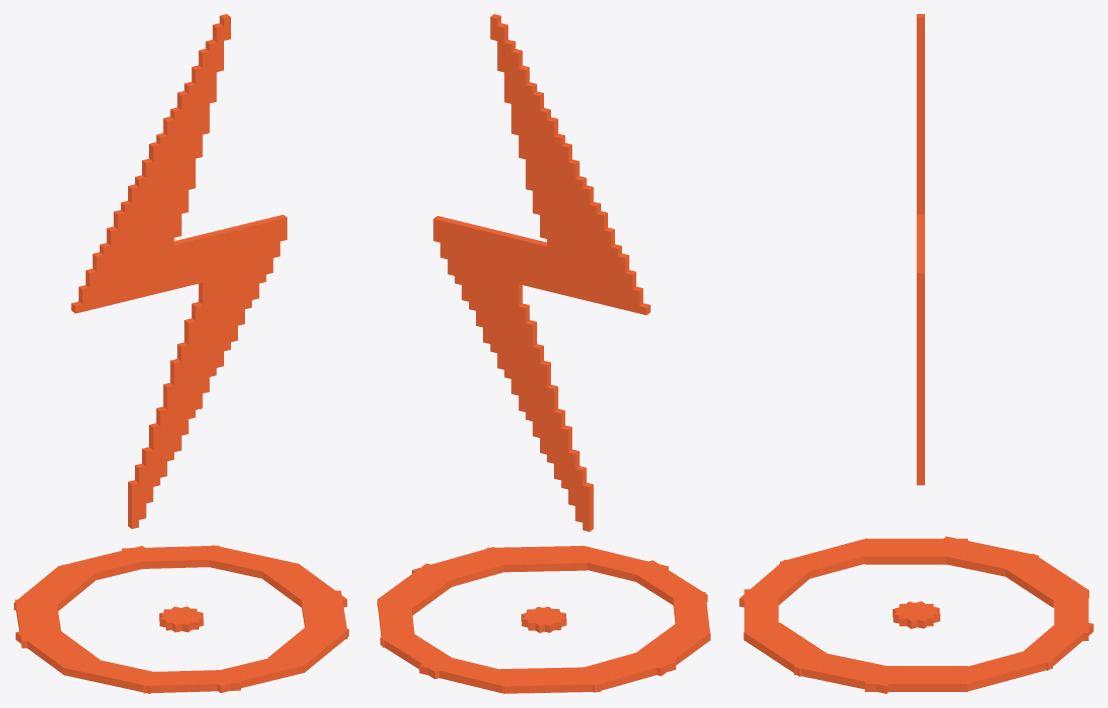
File: 模板赛道道具.gltf
3 renders of one model, left to right at view 1: azimuth 30°, elevation 25°; view 2: azimuth 150°, elevation 25°; view 3: azimuth 270°, elevation 25°, orthographic. The views are drawn at different scales.
Visible parts, largest first — view 1: Group; view 2: Group; view 3: Group.
Boxes of the visible parts, left/top/right/bottom form: Group: left=14, top=14, right=348, bottom=693; Group: left=377, top=14, right=710, bottom=693; Group: left=739, top=14, right=1093, bottom=693.
Size of the model in its own units: 41.19 by 80.36 by 41.19.
1 material, 1 textured.
